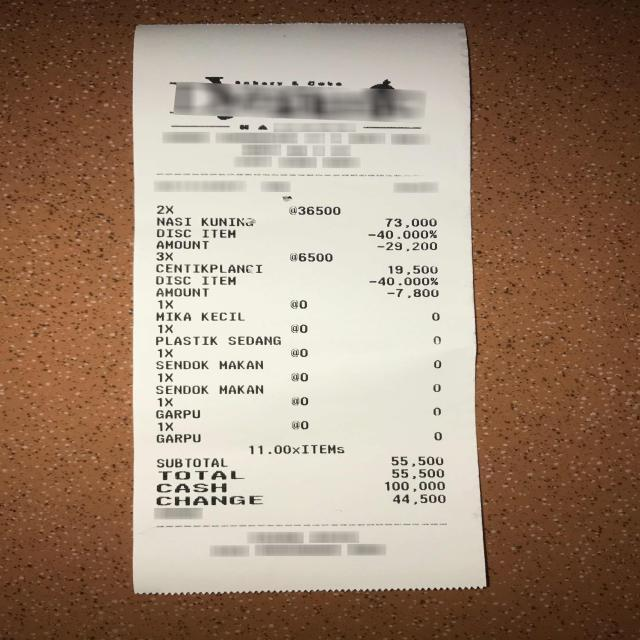kertas: (129, 22, 487, 594), (320, 342, 324, 344)
